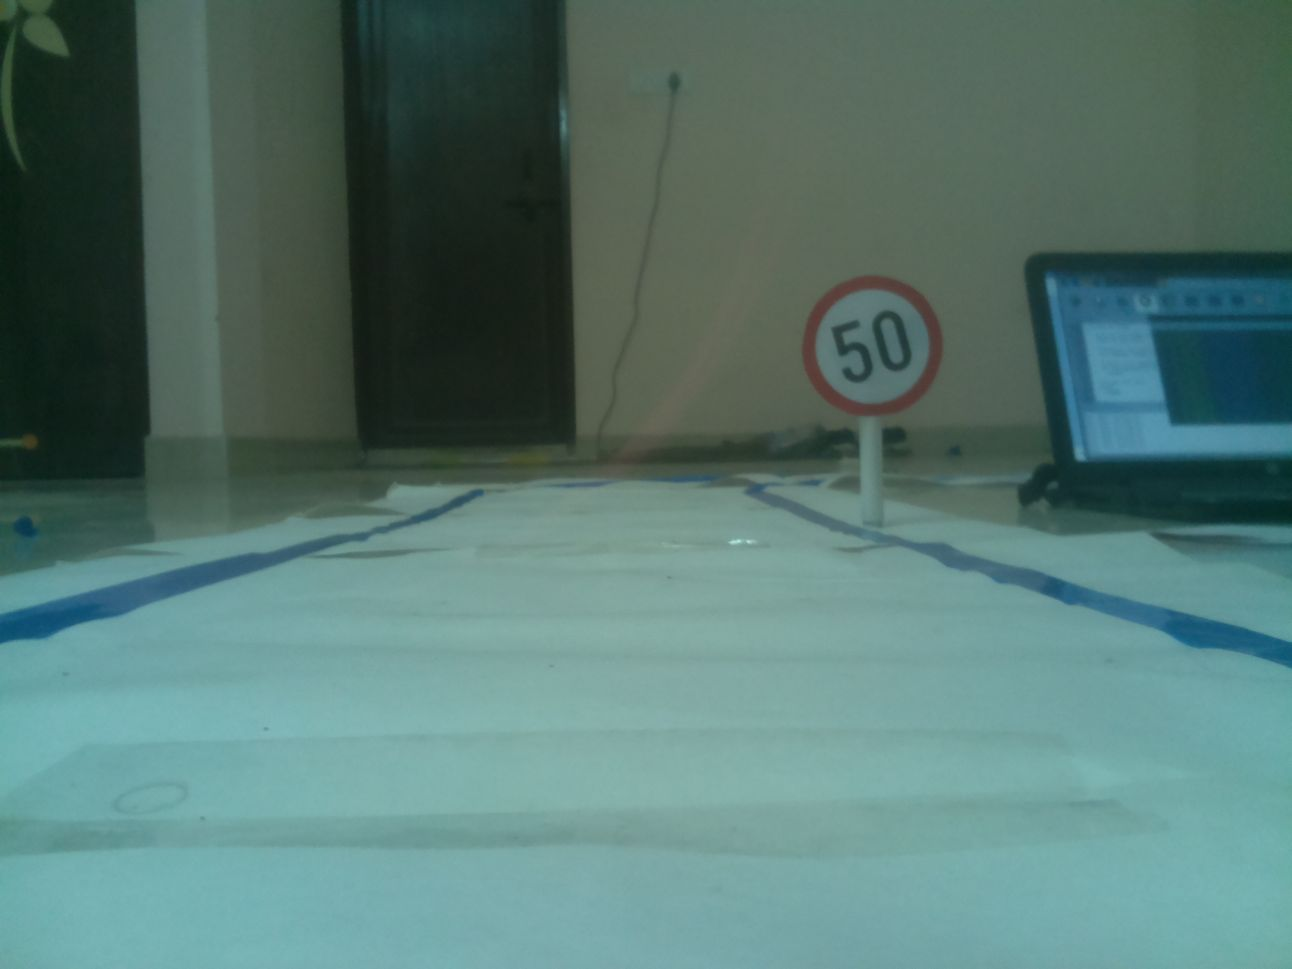speed-50: (803, 275, 941, 417)
